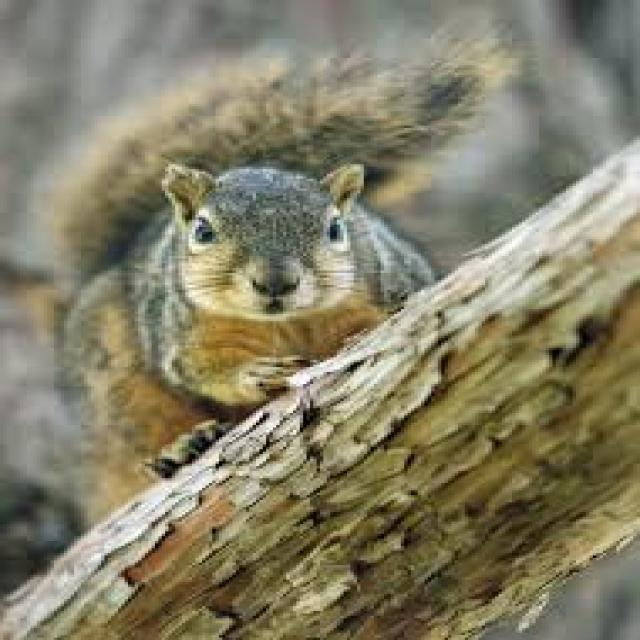rat: (44, 21, 522, 534)
